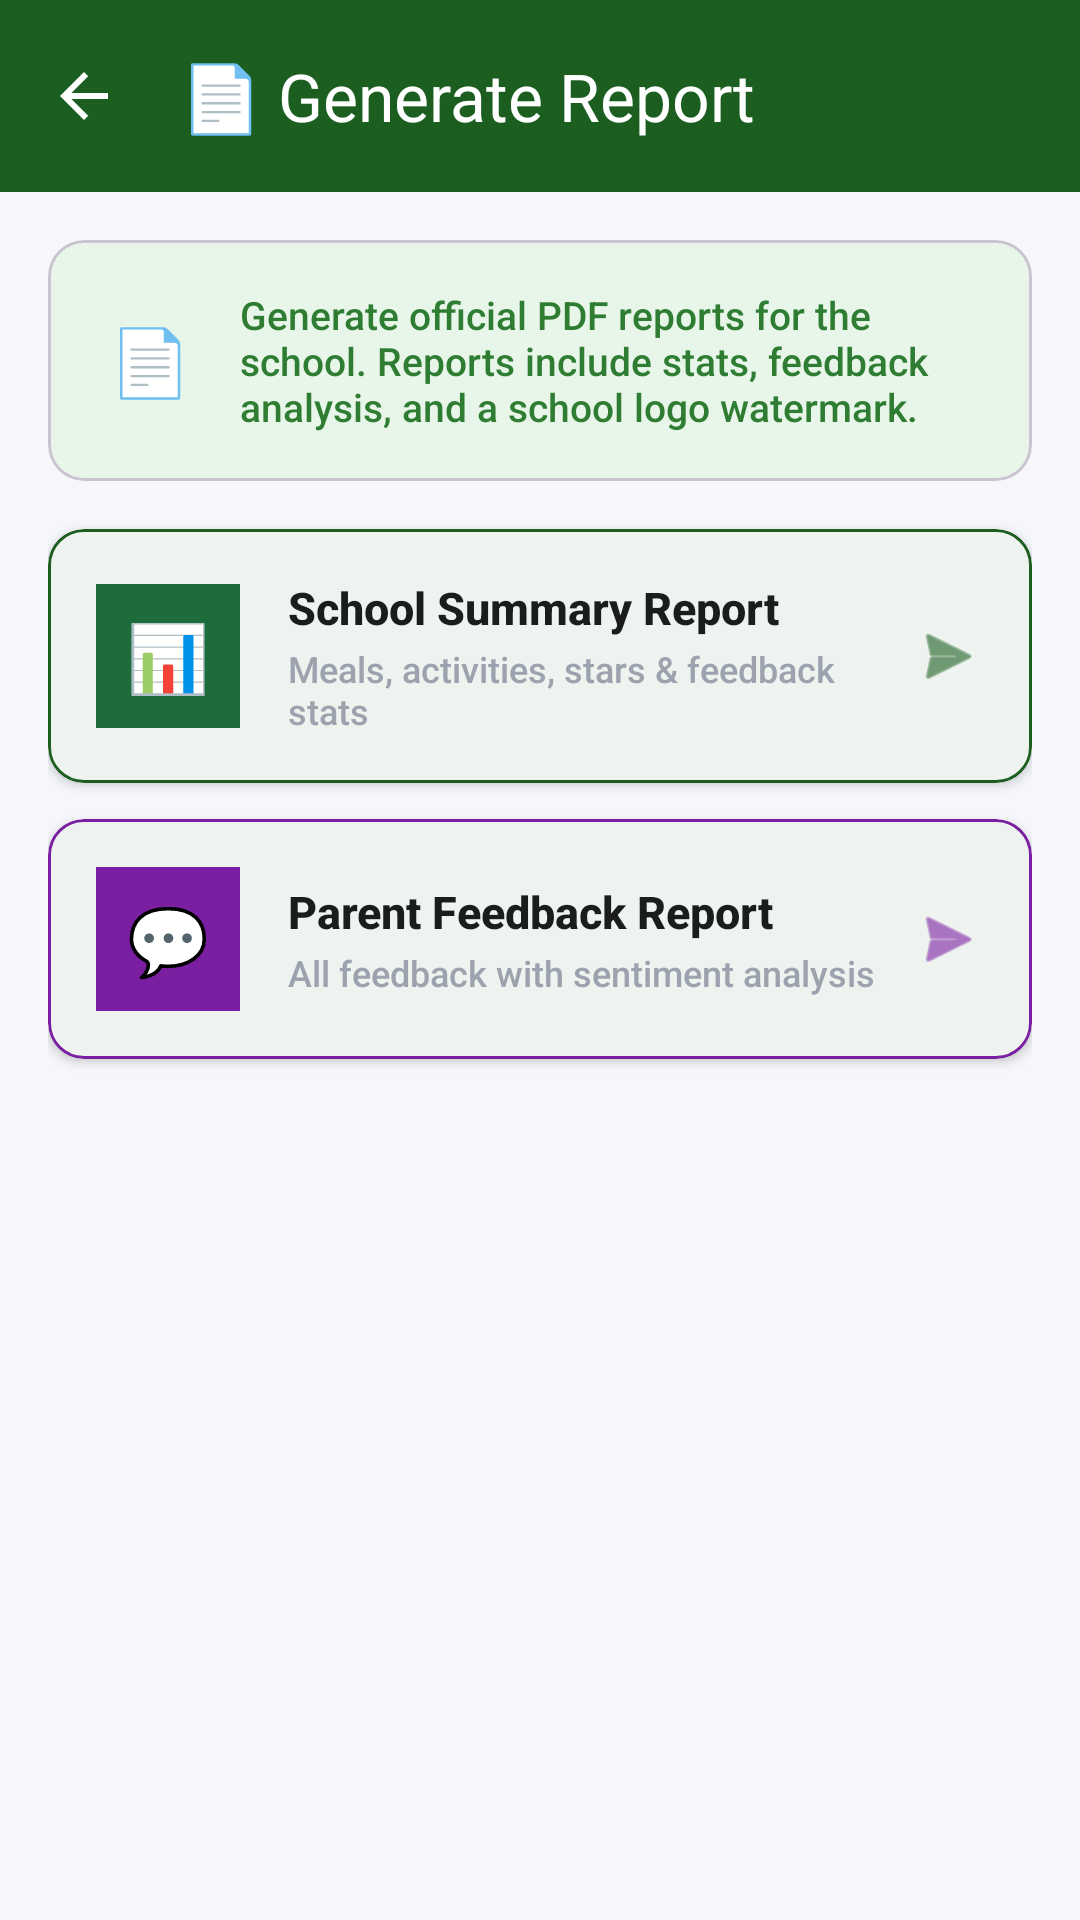

Named icons in this screenshot (1080*1920) and their centers, (x=x, y=y):
Generate: (x=949, y=656), (x=949, y=939)
